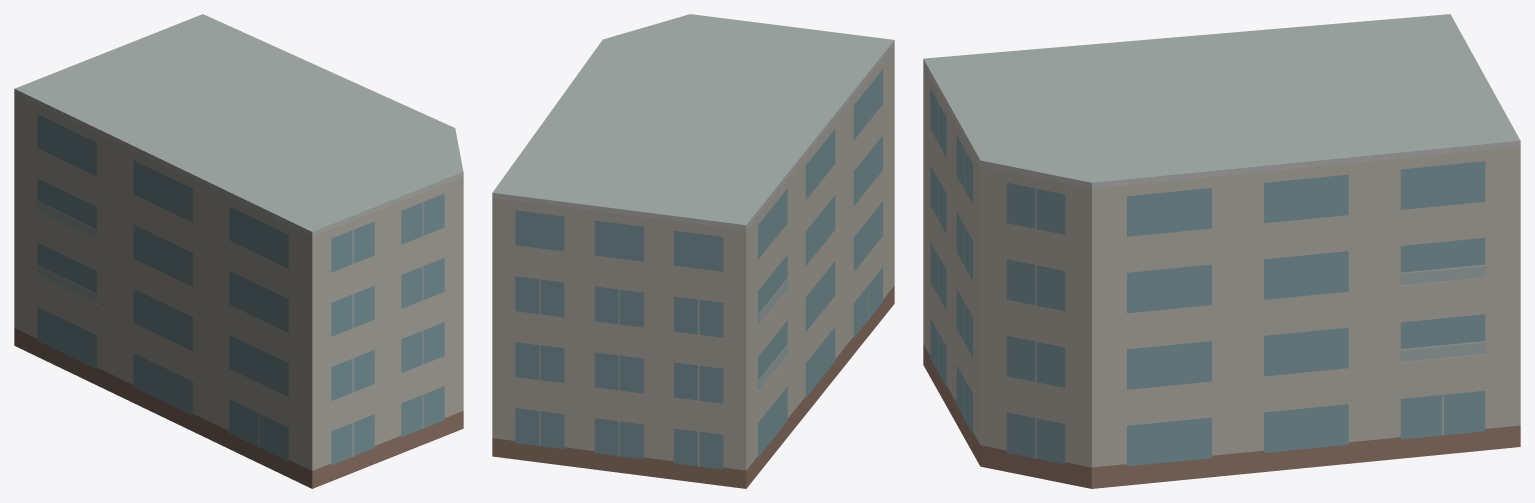
Rendered from survey-upis-32638072.glb.
3 views of the same model, side by side, from view 1: azimuth 30°, elevation 25°; view 2: azimuth 150°, elevation 25°; view 3: azimuth 270°, elevation 25° (orthographic). The views are drawn at different scales.
Visible parts, largest first — view 1: survey-upis-32638072.tmp; view 2: survey-upis-32638072.tmp; view 3: survey-upis-32638072.tmp.
Boxes of the visible parts, x1=… form: survey-upis-32638072.tmp: x1=14, y1=14, x2=463, y2=488; survey-upis-32638072.tmp: x1=492, y1=14, x2=894, y2=488; survey-upis-32638072.tmp: x1=923, y1=14, x2=1520, y2=488.
Bounding box in the file's own units: 14.79 × 12.5 × 22.11.
